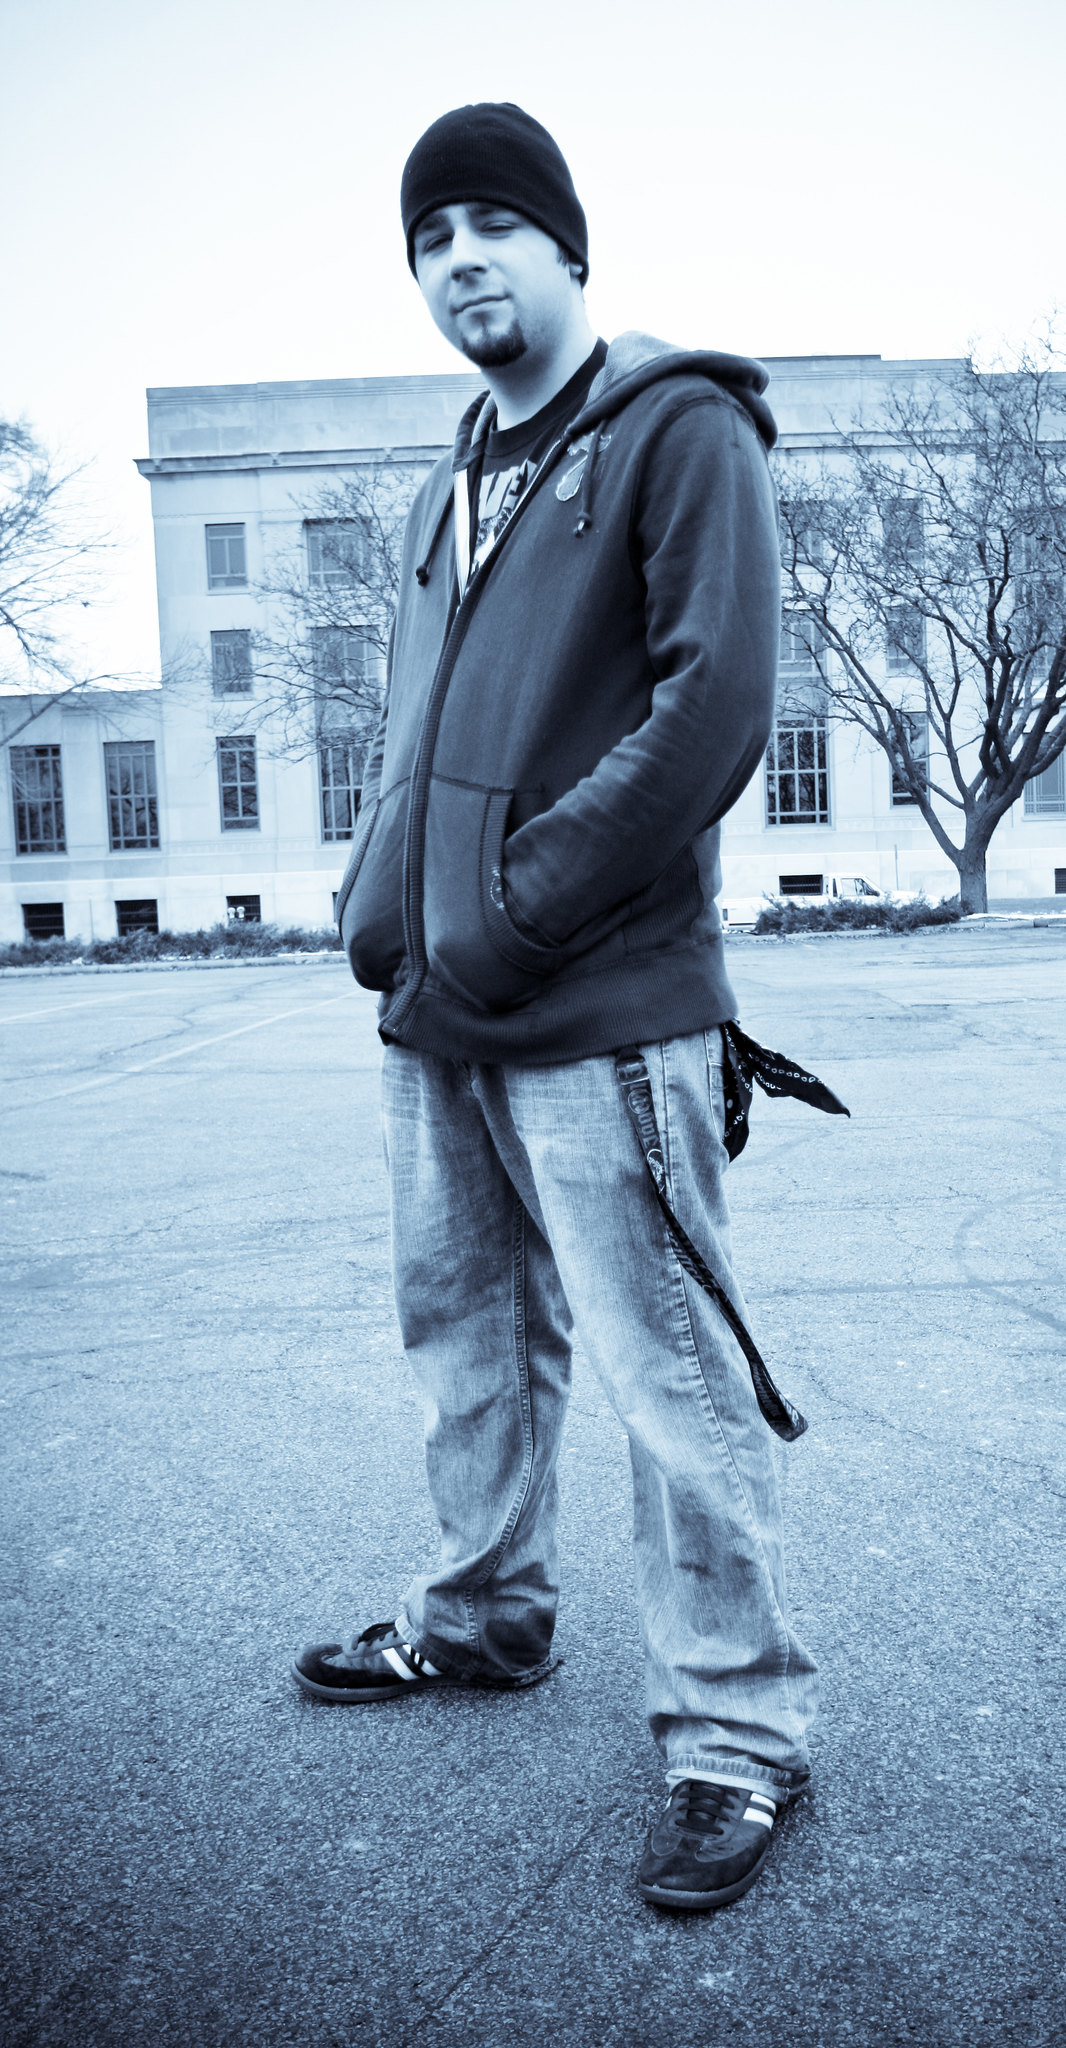Person: (205, 96, 858, 1998)
